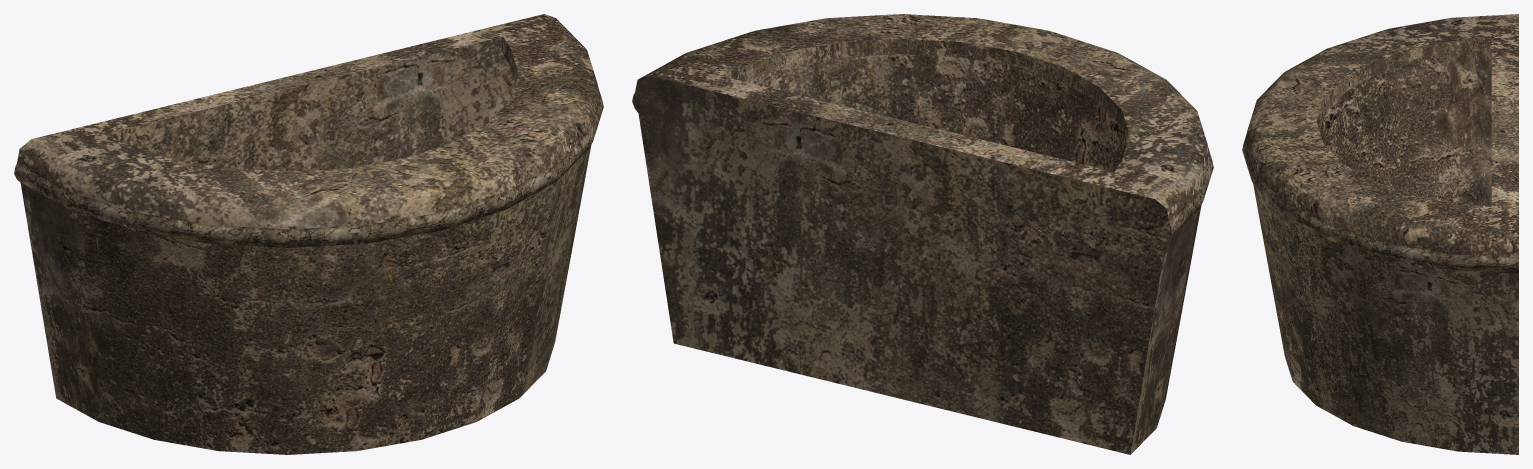
File: materials_5_pot_13.fbx
3 renders of one model, left to right at view 1: azimuth 30°, elevation 25°; view 2: azimuth 150°, elevation 25°; view 3: azimuth 270°, elevation 25°, orthographic. The views are drawn at different scales.
Parts seen in each view (by area): view 1: materials_5_pot_13; view 2: materials_5_pot_13; view 3: materials_5_pot_13.
Part boxes in pixels (x1,y1,x2,y2): materials_5_pot_13: (14, 14, 603, 454); materials_5_pot_13: (632, 14, 1213, 454); materials_5_pot_13: (1242, 14, 1518, 454).
Bounding box in the file's own units: 37.93 × 17.73 × 18.96.
